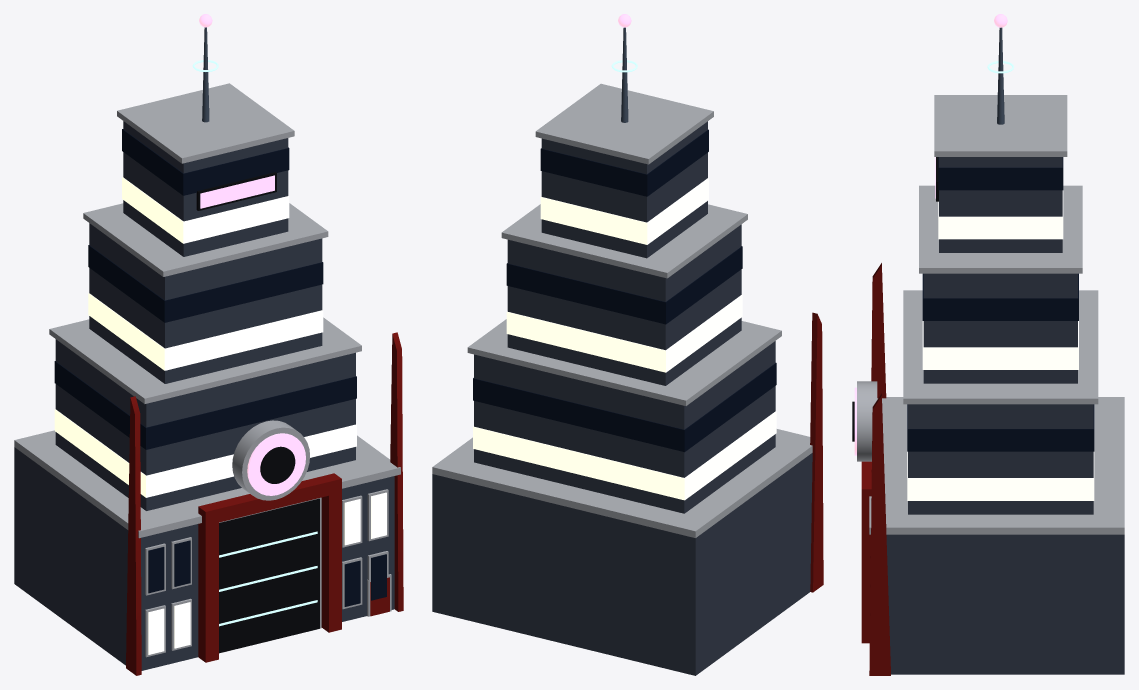
File: company_hq.glb
The picture shows the model from 3 angles, left to right: view 1: azimuth 30°, elevation 25°; view 2: azimuth 150°, elevation 25°; view 3: azimuth 270°, elevation 25°; orthographic projection. The views are drawn at different scales.
Visible parts, largest first — view 1: company_hq; view 2: company_hq; view 3: company_hq.
Boxes of the visible parts, left/top/right/bottom form: company_hq: left=14, top=14, right=403, bottom=675; company_hq: left=432, top=14, right=823, bottom=675; company_hq: left=852, top=14, right=1124, bottom=675.
Bounding box in the file's own units: 20.4 × 42.45 × 17.6.
